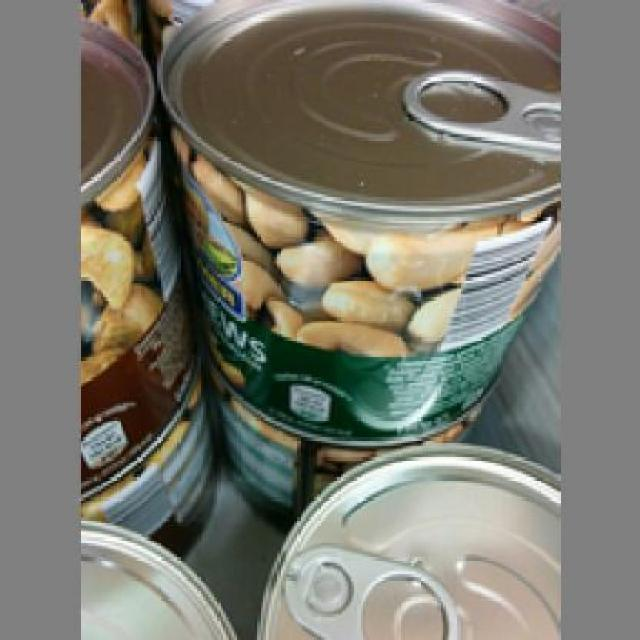Nuts: (155, 0, 554, 440)
